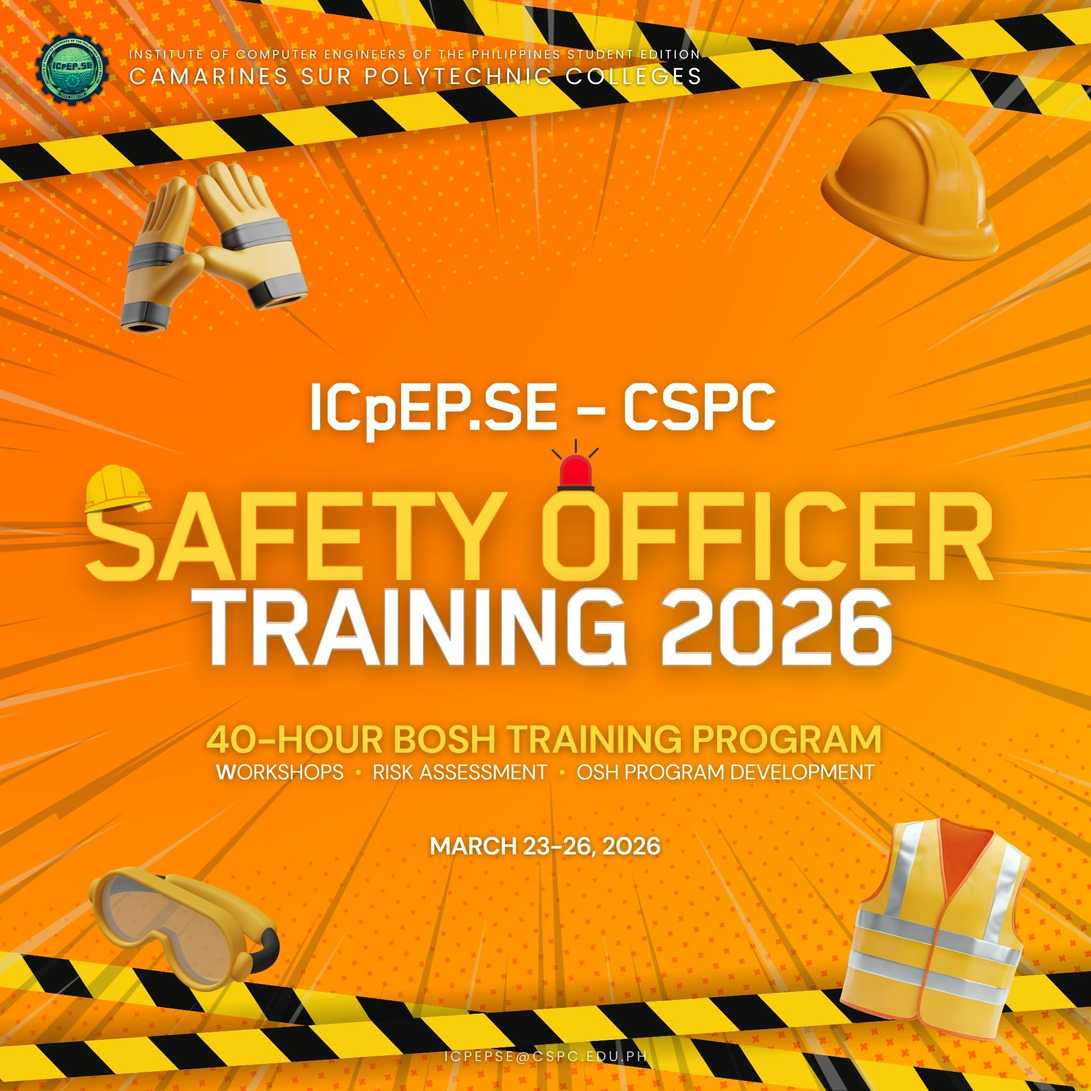embellishment: (0, 0, 1090, 186), (0, 940, 1090, 1090), (840, 818, 1032, 1041), (120, 161, 309, 333), (820, 109, 998, 259), (86, 867, 282, 990), (84, 465, 153, 514), (549, 438, 600, 492)
logo: (28, 24, 114, 118)
text: (84, 491, 995, 582), (190, 587, 892, 666), (309, 383, 777, 442), (204, 724, 882, 754), (129, 64, 701, 87), (215, 762, 876, 780), (128, 47, 699, 61), (429, 836, 661, 858), (444, 1051, 646, 1063)
